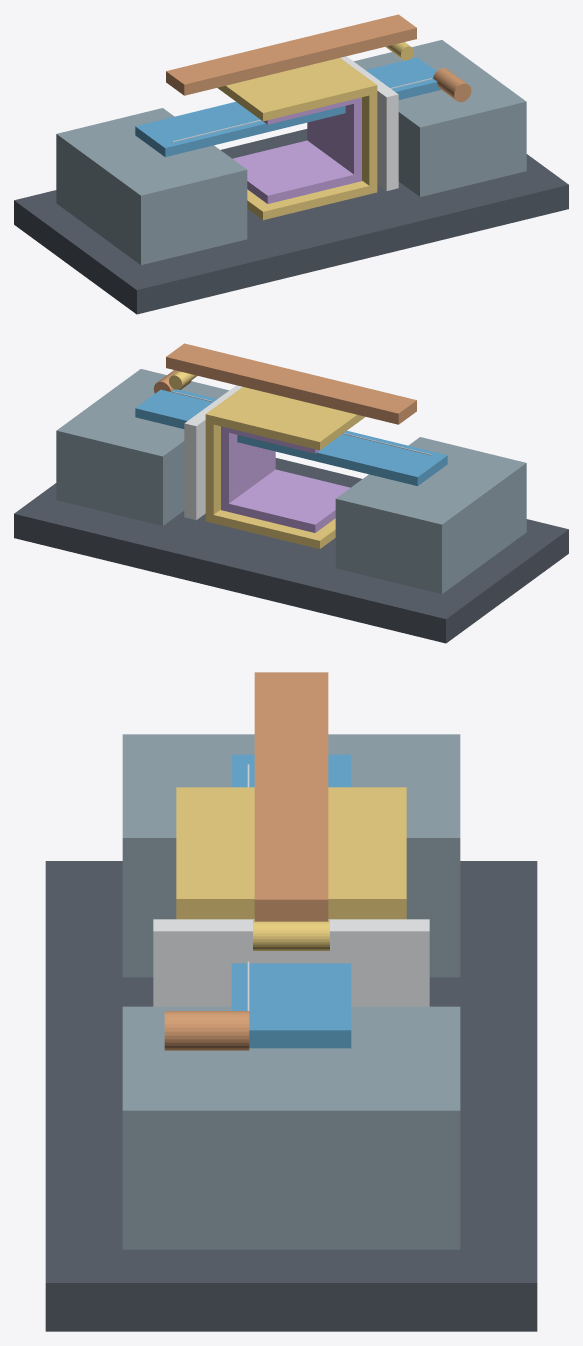
File: 05-gaafet.glb
3 views of the same model, one above another, from view 1: azimuth 30°, elevation 25°; view 2: azimuth 150°, elevation 25°; view 3: azimuth 270°, elevation 25° (orthographic). The views are drawn at different scales.
Parts seen in each view (by area): view 1: Silicon device substrate, Source region, Drain region, Local interconnect M0, Silicon nanosheet channel, Metal gate top, High-k gate dielectric bottom, High-k gate dielectric side, Gate spacer, Metal gate bottom, Metal gate sidewall, Source drain contact (+1 smaller); view 2: Silicon device substrate, Source region, Drain region, Local interconnect M0, Silicon nanosheet channel, Metal gate top, High-k gate dielectric bottom, High-k gate dielectric side, Gate spacer, Metal gate bottom, Metal gate sidewall, High-k gate dielectric top; view 3: Silicon device substrate, Drain region, Source region, Metal gate top, Local interconnect M0, Gate spacer, Silicon nanosheet channel, Source drain contact, Contact via, Metal gate sidewall.
Part boxes in pixels (x1,y1,x2,y2): Silicon device substrate: [14, 129, 568, 314]; Source region: [56, 108, 247, 264]; Drain region: [354, 40, 526, 196]; Local interconnect M0: [166, 14, 416, 95]; Silicon nanosheet channel: [135, 57, 441, 157]; Metal gate top: [217, 58, 377, 121]; High-k gate dielectric bottom: [232, 140, 361, 203]; High-k gate dielectric side: [307, 97, 361, 178]; Gate spacer: [340, 56, 398, 191]; Metal gate bottom: [247, 181, 377, 220]; Metal gate sidewall: [362, 93, 377, 185]; Source drain contact: [433, 68, 471, 102]; Silicon device substrate: [14, 458, 568, 643]; Source region: [335, 437, 526, 593]; Drain region: [56, 369, 228, 525]; Local interconnect M0: [166, 343, 416, 424]; Silicon nanosheet channel: [135, 389, 447, 486]; Metal gate top: [205, 387, 365, 450]; High-k gate dielectric bottom: [221, 469, 350, 532]; High-k gate dielectric side: [221, 426, 275, 506]; Gate spacer: [184, 385, 242, 520]; Metal gate bottom: [205, 510, 335, 549]; Metal gate sidewall: [205, 419, 220, 514]; High-k gate dielectric top: [221, 427, 319, 453]; Silicon device substrate: [45, 861, 537, 1331]; Drain region: [122, 1006, 460, 1249]; Source region: [122, 734, 460, 977]; Metal gate top: [176, 787, 406, 915]; Local interconnect M0: [254, 672, 328, 921]; Gate spacer: [153, 919, 429, 1006]; Silicon nanosheet channel: [231, 754, 351, 1048]; Source drain contact: [164, 1011, 249, 1050]; Contact via: [253, 920, 329, 950]; Metal gate sidewall: [176, 907, 406, 919].
Bounding box in the file's own units: 6.5 × 2.41 × 3.2.
